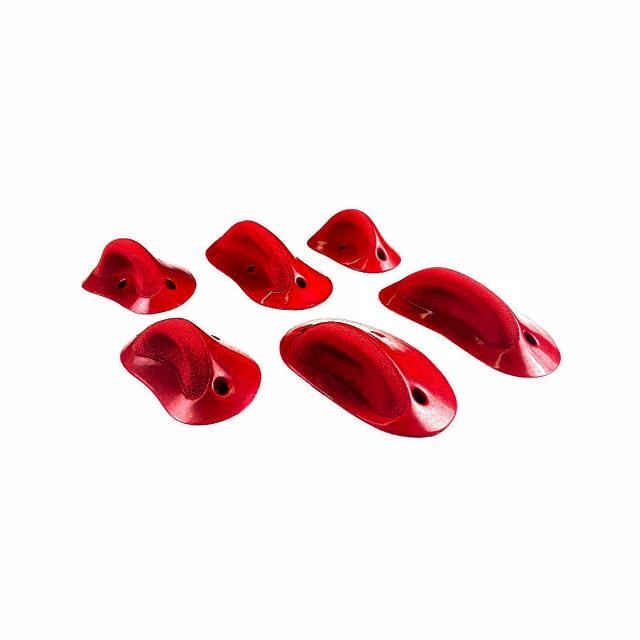Hold: (278, 316, 458, 438), (378, 266, 562, 380), (118, 317, 262, 428), (205, 219, 334, 312), (80, 236, 196, 315), (307, 207, 402, 274)
